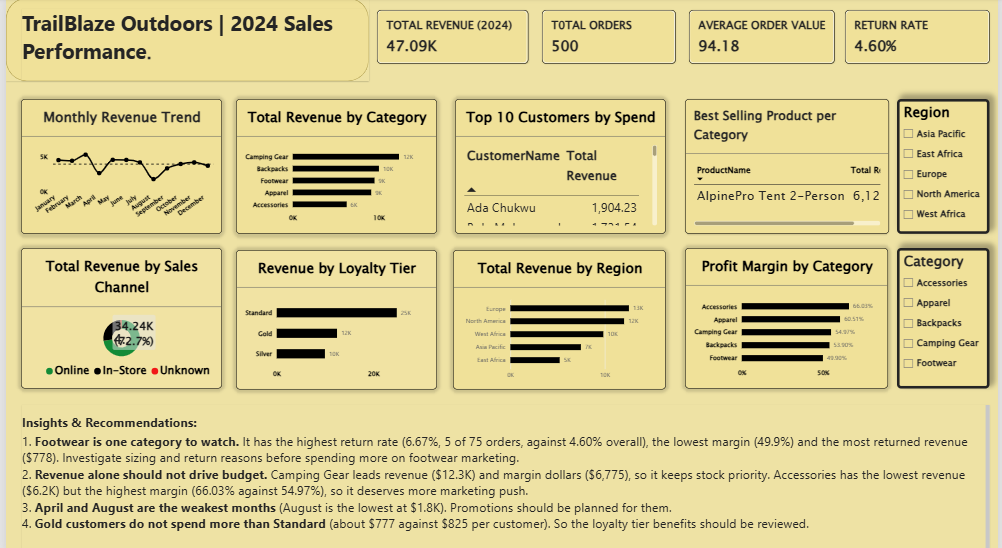

The page's visual inventory and layout, read from the dashboard file:
{"tool":"powerbi","page":{"name":"2024 TrailBlaze Performance Dashboard","canvas":[1920,1080],"ordinal":0},"visuals":[{"type":"lineChart","title":"Monthly Revenue Trend","fields":{"Category":["Orders.OrderDate.Variation.Date Hierarchy.Month"],"Y":["Orders.Total Revenue"]},"box":[29.5,222.6,388.4,261.2],"z":0},{"type":"clusteredBarChart","title":"Total Revenue by Category","fields":{"Category":["Products.Category"],"Y":["Orders.Total Revenue"]},"box":[445.2,224.9,388.4,261.2],"z":1000},{"type":"map","fields":{"Category":["Customers.Region"],"Size":["Orders.Total Revenue"]},"box":[869.9,511,423.9,313],"z":2000},{"type":"donutChart","title":"Total Revenue by Sales Channel","fields":{"Category":["Orders.Channel Clean"],"Y":["Orders.Total Revenue"]},"box":[29.5,511,388.4,313.4],"z":3000},{"type":"tableEx","title":"Top 10 Customers by Spend","fields":{"Values":["Customers.CustomerName","Orders.Total Revenue"]},"box":[869.9,224.9,408.8,261.2],"z":4000},{"type":"clusteredBarChart","title":"Revenue by Loyalty Tier","fields":{"Category":["Customers.LoyaltyTier"],"Y":["Orders.Total Revenue"]},"box":[445.2,511,388.4,313.4],"z":5000},{"type":"slicer","fields":{"Values":["Customers.Region"]},"box":[1723.9,222.6,179.4,261.2],"z":6000},{"type":"slicer","fields":{"Values":["Orders.Category"]},"box":[1723.9,511,179.4,313.4],"z":7000},{"type":"tableEx","title":"Best Selling Product per Category","fields":{"Values":["Products.ProductName","Orders.Total Revenue"]},"box":[1296.9,224.9,395.2,261.2],"z":8000},{"type":"shape","box":[0,0,701.8,195.3],"z":9000},{"type":"textbox","box":[30.4,21.7,671.7,139.1],"z":10000},{"type":"cardVisual","title":"TOTAL REVENUE (2024)","fields":{"Data":["Orders.Total Revenue"]},"box":[717.7,22.7,293,104.5],"z":11000},{"type":"cardVisual","title":"TOTAL REVENUE (2024)","fields":{"Data":["Orders.Total Orders"]},"box":[1038,22.7,258.9,104.5],"z":12000},{"type":"cardVisual","title":"TOTAL REVENUE (2024)","fields":{"Data":["Orders.Average Order Value"]},"box":[1321.9,22.7,281.6,104.5],"z":13000},{"type":"cardVisual","title":"TOTAL REVENUE (2024)","fields":{"Data":["Orders.Return Rate"]},"box":[1624,22.7,280.4,104.3],"z":14000},{"type":"textbox","box":[30.4,834.8,1873.9,245.7],"z":15000},{"type":"clusteredBarChart","title":"Profit Margin by Category","fields":{"Category":["Products.Category"],"Y":["Orders.Margin%"]},"box":[1321.9,511,386.1,313.4],"z":16000}]}

Visuals, with their boxes in screenshot pixels (x1, y1, x2, y2), scaled from the page's 1920x1080 canvas onto the 1002x548 screenshot:
"Monthly Revenue Trend" lineChart: locate(15, 113, 218, 245)
"Total Revenue by Category" clusteredBarChart: locate(232, 114, 435, 247)
map - Customers.Region x Orders.Total Revenue: locate(454, 259, 675, 418)
"Total Revenue by Sales Channel" donutChart: locate(15, 259, 218, 418)
"Top 10 Customers by Spend" tableEx: locate(454, 114, 667, 247)
"Revenue by Loyalty Tier" clusteredBarChart: locate(232, 259, 435, 418)
slicer - Customers.Region: locate(900, 113, 993, 245)
slicer - Orders.Category: locate(900, 259, 993, 418)
"Best Selling Product per Category" tableEx: locate(677, 114, 883, 247)
shape: locate(0, 0, 366, 99)
textbox: locate(16, 11, 366, 82)
"TOTAL REVENUE (2024)" cardVisual: locate(375, 12, 527, 65)
"TOTAL REVENUE (2024)" cardVisual: locate(542, 12, 677, 65)
"TOTAL REVENUE (2024)" cardVisual: locate(690, 12, 837, 65)
"TOTAL REVENUE (2024)" cardVisual: locate(848, 12, 994, 64)
textbox: locate(16, 424, 994, 547)
"Profit Margin by Category" clusteredBarChart: locate(690, 259, 891, 418)
